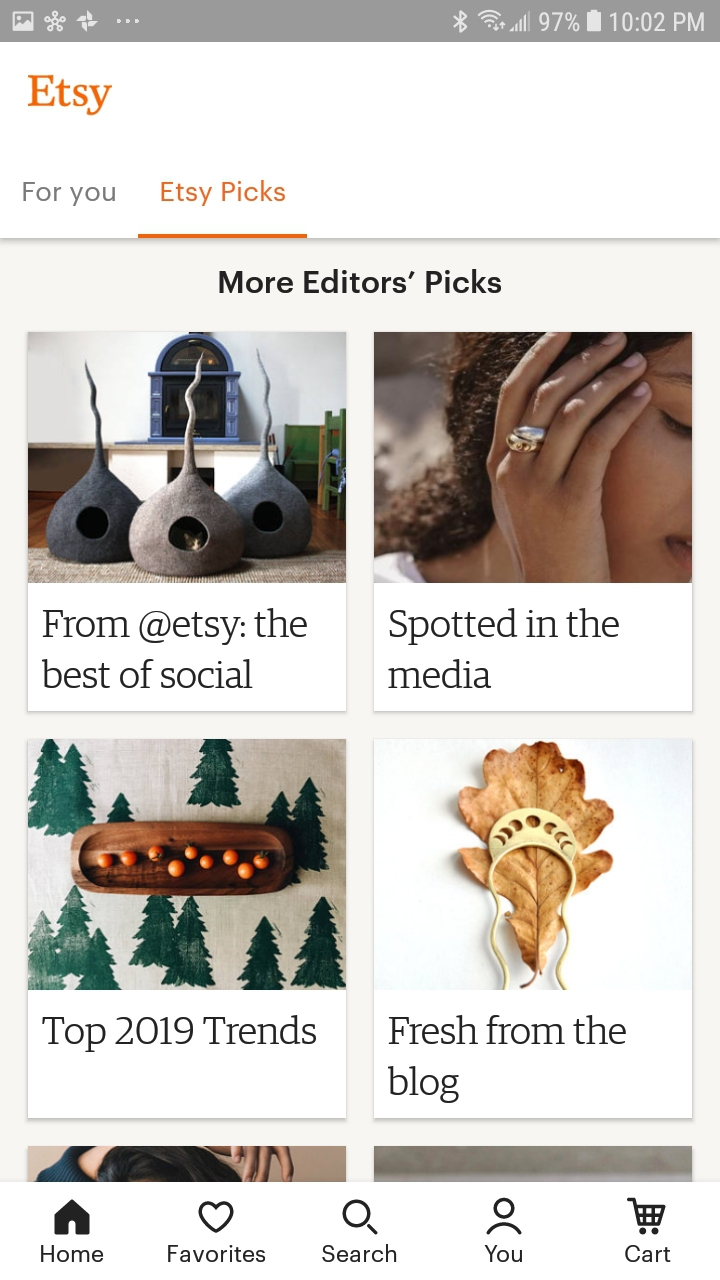Icon: (627, 1197, 666, 1235), (486, 1197, 522, 1235), (342, 1199, 379, 1235), (55, 1199, 91, 1235), (198, 1201, 235, 1233)
Image: (28, 332, 347, 584), (374, 739, 692, 991), (374, 333, 692, 584), (29, 739, 347, 990), (29, 1146, 347, 1182), (374, 1146, 692, 1182)
Text: (43, 608, 308, 689), (388, 1015, 626, 1104), (388, 608, 619, 689), (43, 1014, 317, 1052), (219, 270, 502, 294), (29, 74, 113, 117), (161, 180, 286, 207), (24, 183, 116, 207), (168, 1244, 266, 1262), (322, 1243, 397, 1262), (41, 1244, 104, 1262), (625, 1244, 671, 1262), (484, 1244, 523, 1262)
UpperTaskBar: (1, 1, 720, 43)
